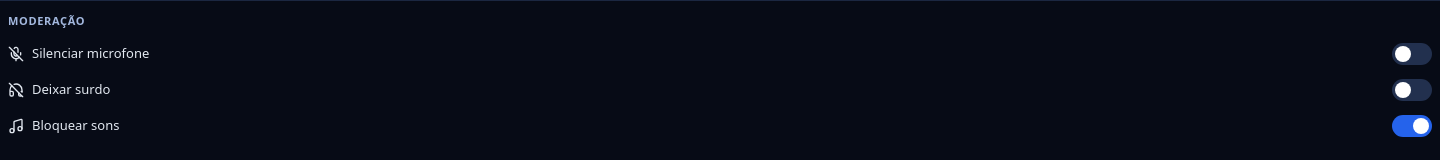
Test: moderar a voz pelo cartão › Bloquear sons é uma chave: ligada, libera
What coordinates should you click on to do the following:
click the switch named "Bloquear sons" in the row of "Bloquear sons"
I would click on:
 (1412, 126)
Its box is [1392,114,1432,136].
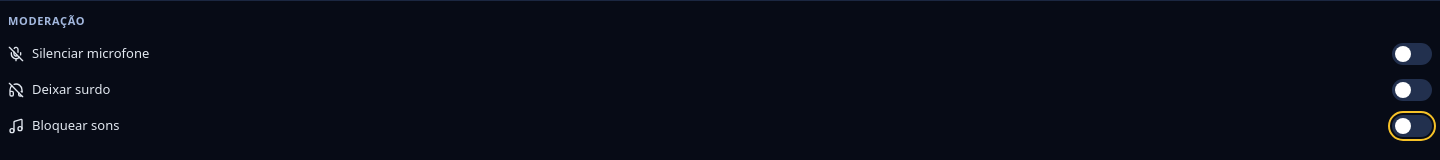
expect the switch named "Bloquear sons" in the row of "Bloquear sons" is not checked: met, box [1392,114,1432,136]
